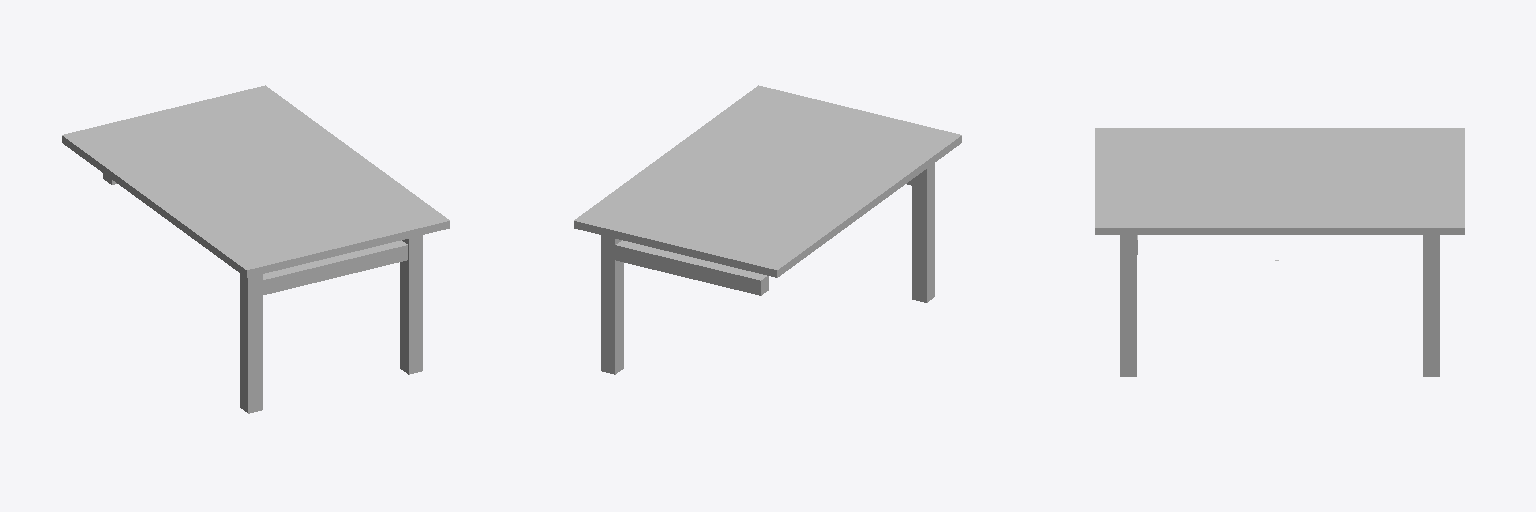
File: stolik.obj
The picture shows the model from 3 angles: view 1: azimuth 30°, elevation 25°; view 2: azimuth 150°, elevation 25°; view 3: azimuth 270°, elevation 25°; orthographic projection.
Parts seen in each view (by area): view 1: Platte, Bein, Stütze_1, Bein_1; view 2: Platte, Stütze, Bein, Bein_3; view 3: Platte, Bein_1, Bein_3.
Part boxes in pixels (x1,y1,x2,y2): Platte: (62, 85, 449, 277); Bein: (240, 274, 262, 413); Stütze_1: (263, 240, 407, 294); Bein_1: (400, 235, 422, 374); Platte: (574, 85, 961, 277); Stütze: (615, 240, 768, 295); Bein: (912, 163, 934, 302); Bein_3: (601, 235, 623, 374); Platte: (1095, 128, 1464, 234); Bein_1: (1120, 235, 1136, 376); Bein_3: (1423, 235, 1439, 376).
Size of the model in its own units: 140 by 103 by 220.